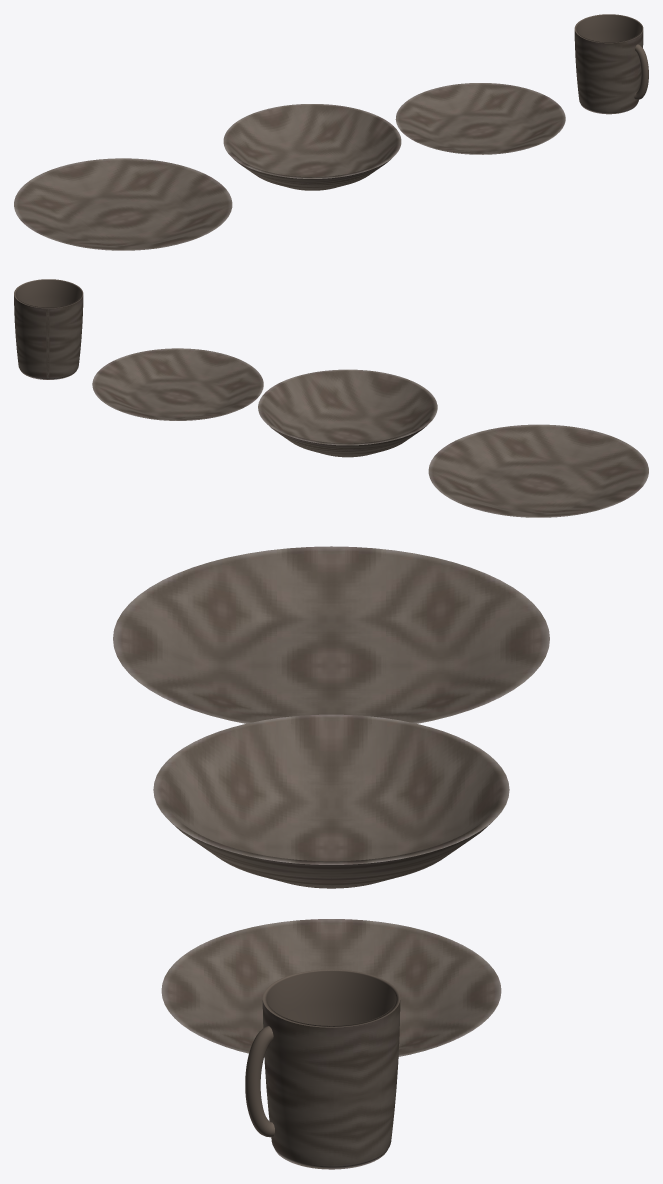
The model's file is MAR-14.glb.
3 views of the same model, one above another, from view 1: azimuth 30°, elevation 25°; view 2: azimuth 150°, elevation 25°; view 3: azimuth 270°, elevation 25° (orthographic). The views are drawn at different scales.
Bounding box in the file's own units: 0.8705 × 0.1 × 0.27.
9 materials, 7 textured.
